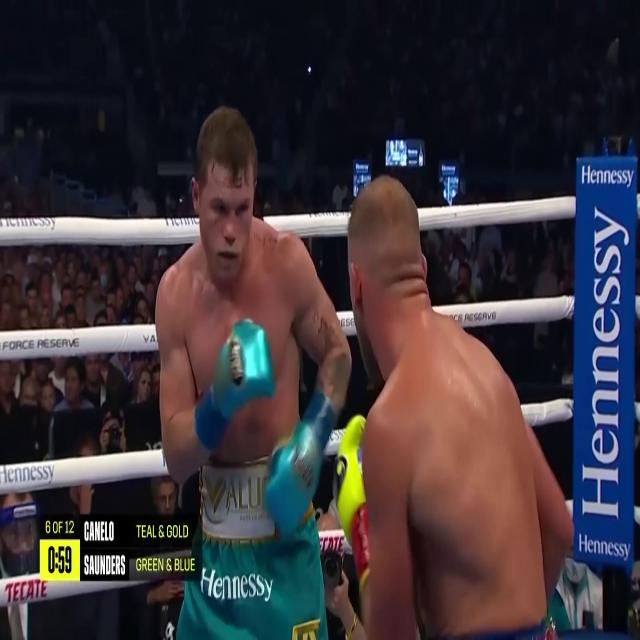boxer_1: (348, 177, 546, 640)
boxer_2: (163, 107, 299, 460)
gloves_1: (336, 415, 369, 586)
gloves_2: (194, 319, 276, 450), (266, 391, 334, 539)
